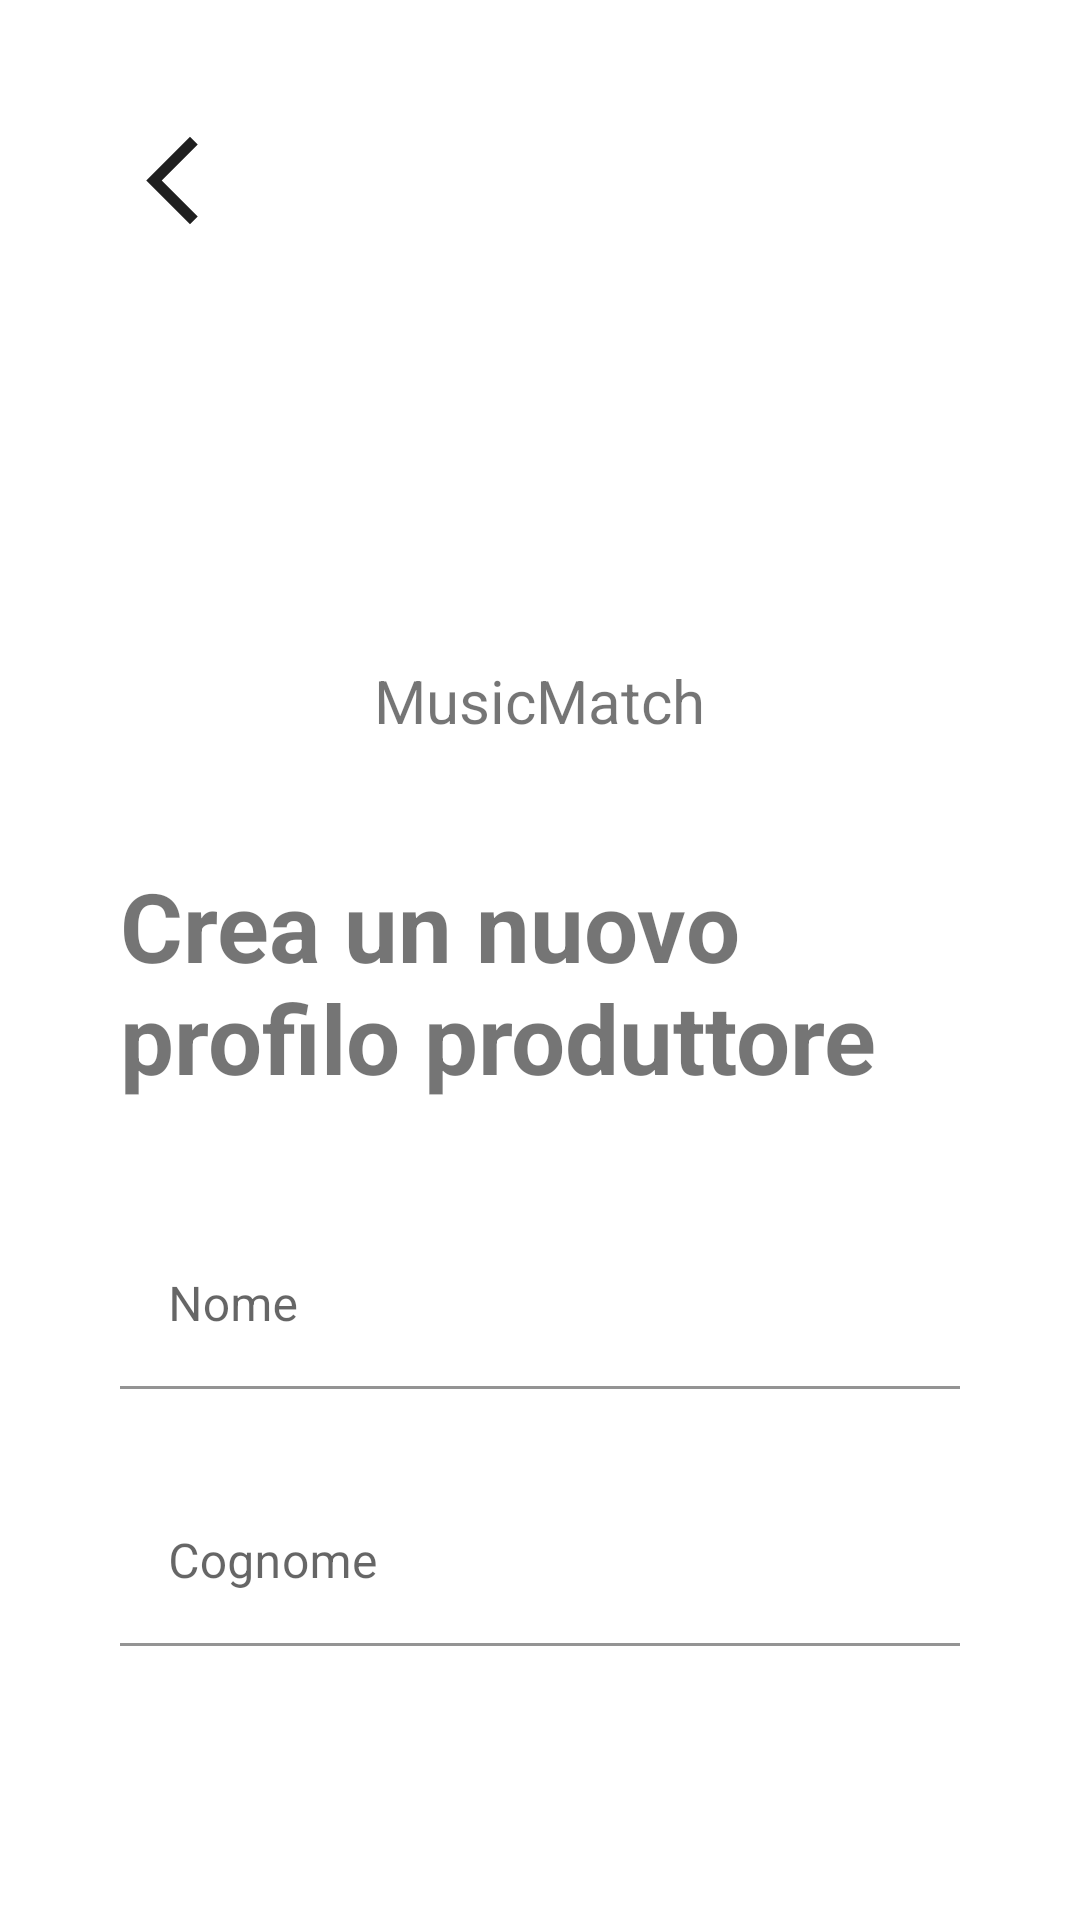

Icons on this 1080w x 1920h Android screen, each with the point to tap as [x,y]:
arrow back: [172,180]
